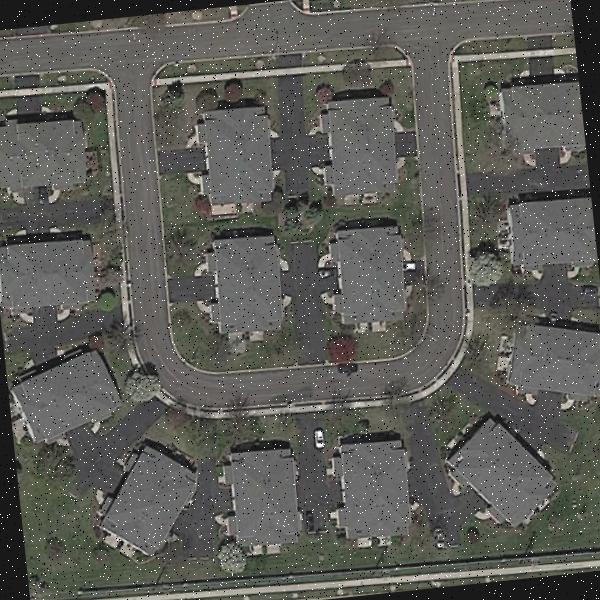Buildings: (191, 234, 295, 336), (100, 450, 202, 546), (497, 320, 600, 412), (6, 352, 118, 436), (328, 438, 410, 549), (459, 425, 541, 530), (194, 107, 282, 203), (335, 224, 406, 332), (0, 231, 93, 312), (497, 68, 585, 151), (228, 450, 302, 544), (502, 196, 594, 270), (328, 100, 396, 198), (0, 120, 87, 196)
